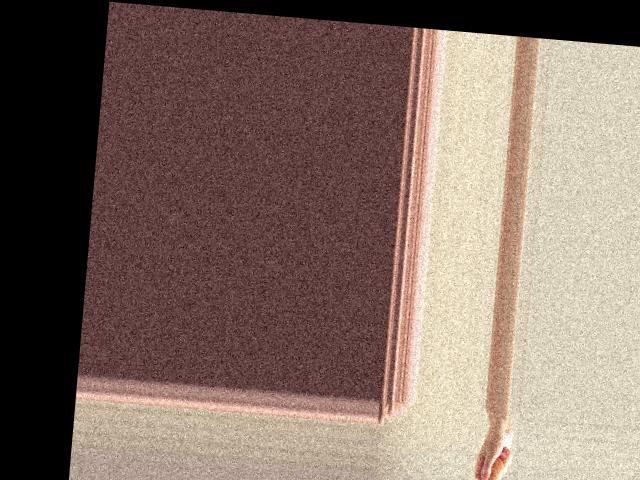egg: (482, 456, 506, 480)
